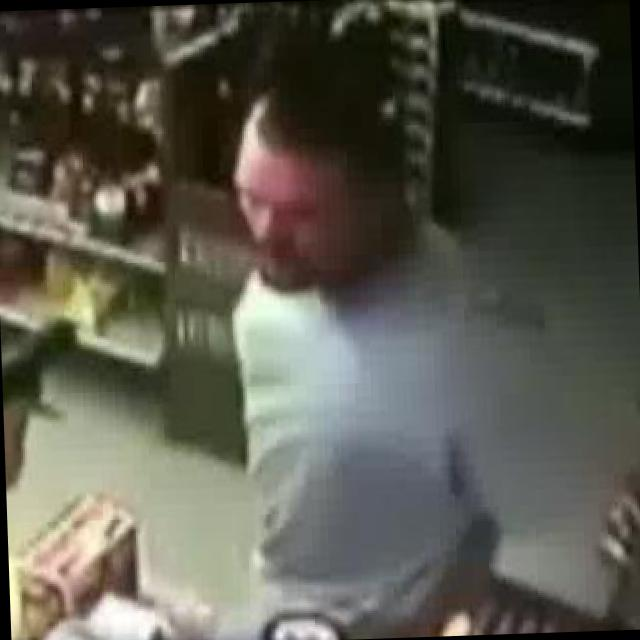Guns: (0, 288, 89, 487)
